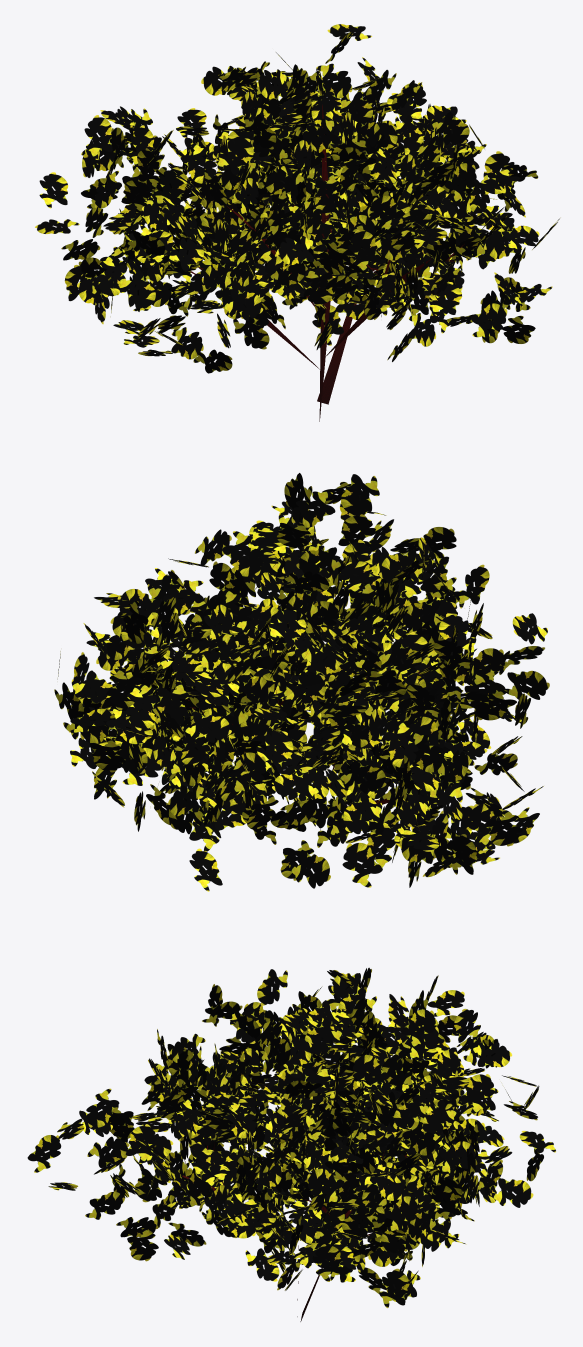
The model's file is understory_laurel_v03_LOD2.glb.
3 renders of one model, top to bottom at view 1: azimuth 30°, elevation 25°; view 2: azimuth 150°, elevation 25°; view 3: azimuth 270°, elevation 25°, orthographic. The views are drawn at different scales.
Parts seen in each view (by area): view 1: understory_laurel_v03_LOD2; view 2: understory_laurel_v03_LOD2; view 3: understory_laurel_v03_LOD2.
Part boxes in pixels (left/top/right/bottom): understory_laurel_v03_LOD2: left=35, top=24, right=559, bottom=421; understory_laurel_v03_LOD2: left=54, top=473, right=549, bottom=891; understory_laurel_v03_LOD2: left=27, top=967, right=555, bottom=1321.
Size of the model in its own units: 8.3 by 6.58 by 9.61.
2 materials, 2 textured.
